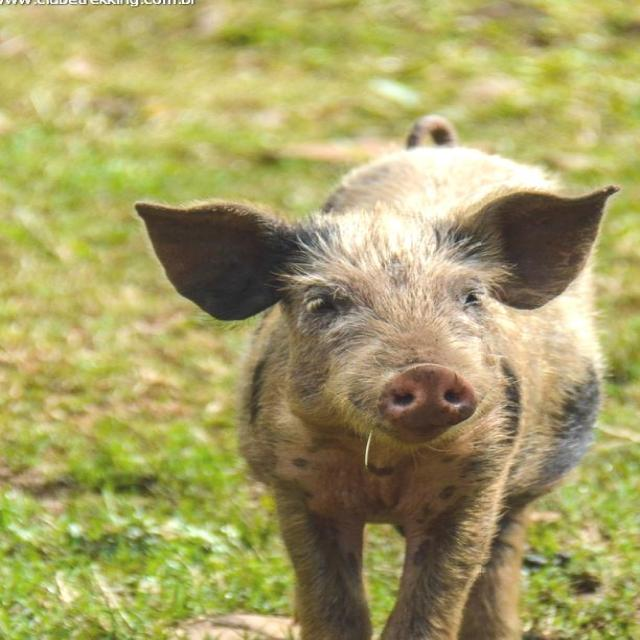pig: (137, 116, 617, 640)
